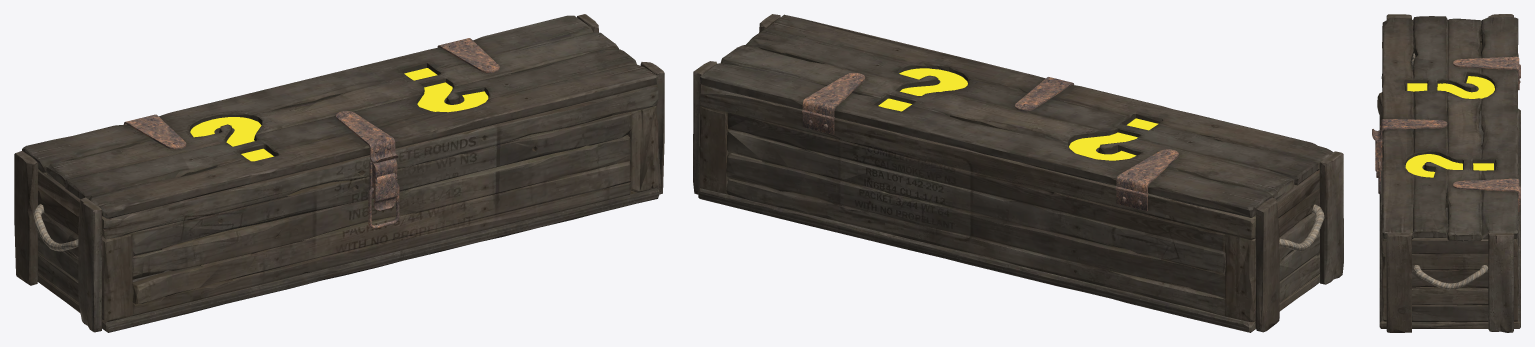
Rendered from mysterybox.glb.
The picture shows the model from 3 angles, left to right: view 1: azimuth 30°, elevation 25°; view 2: azimuth 150°, elevation 25°; view 3: azimuth 270°, elevation 25°; orthographic projection. The views are drawn at different scales.
Parts seen in each view (by area): view 1: Box1Mtl, Lid1Mtl, BoxParts1Mtl, BoxIron1Mtl, Material.002, Material.001, Nylon1Mtl; view 2: Box1Mtl, Lid1Mtl, BoxParts1Mtl, BoxIron1Mtl, Material.001, Material.002, Nylon1Mtl; view 3: Lid1Mtl, Box1Mtl, BoxParts1Mtl, BoxIron1Mtl, Material.001, Material.002, Nylon1Mtl.
Boxes of the visible parts, left/top/right/bottom form: Box1Mtl: left=16, top=14, right=664, bottom=332; Lid1Mtl: left=22, top=15, right=657, bottom=218; BoxParts1Mtl: left=14, top=14, right=664, bottom=332; BoxIron1Mtl: left=124, top=38, right=499, bottom=228; Material.002: left=190, top=117, right=273, bottom=161; Material.001: left=404, top=68, right=488, bottom=112; Nylon1Mtl: left=33, top=204, right=78, bottom=251; Box1Mtl: left=695, top=14, right=1341, bottom=332; Lid1Mtl: left=700, top=14, right=1333, bottom=217; BoxParts1Mtl: left=693, top=17, right=1343, bottom=332; BoxIron1Mtl: left=802, top=73, right=1178, bottom=211; Material.001: left=878, top=68, right=967, bottom=111; Material.002: left=1069, top=118, right=1158, bottom=160; Nylon1Mtl: left=1279, top=204, right=1324, bottom=251; Lid1Mtl: left=1382, top=16, right=1518, bottom=241; Box1Mtl: left=1377, top=14, right=1520, bottom=328; BoxParts1Mtl: left=1379, top=15, right=1520, bottom=332; BoxIron1Mtl: left=1372, top=56, right=1520, bottom=211; Material.001: left=1405, top=154, right=1493, bottom=177; Material.002: left=1407, top=76, right=1494, bottom=98; Nylon1Mtl: left=1411, top=53, right=1488, bottom=289.
Bounding box in the file's own units: 14.86 × 3.05 × 4.14.
9 materials, 5 textured.
